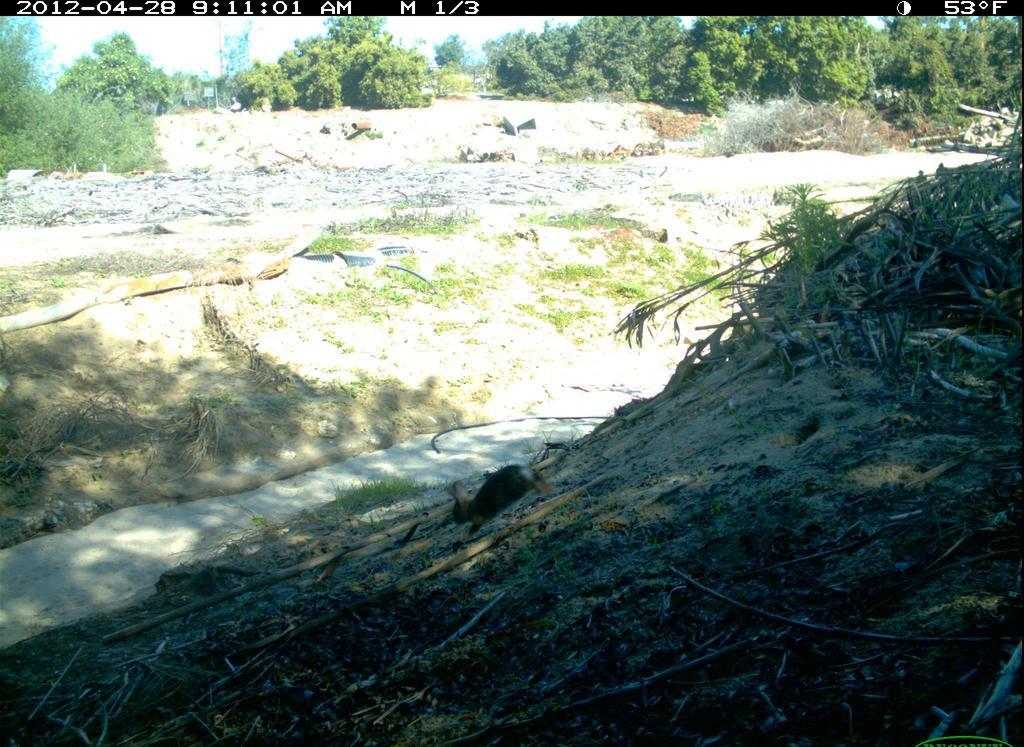rabbit: (434, 463, 561, 553)
